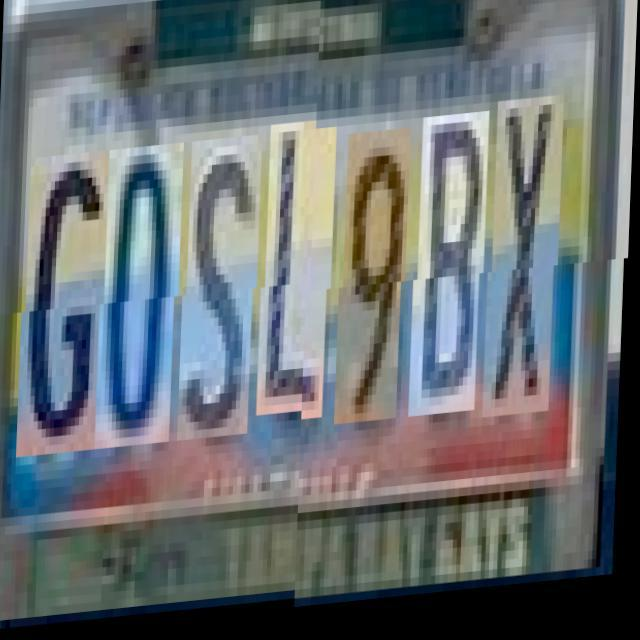9: (342, 136, 412, 432)
B: (416, 122, 491, 426)
G: (24, 162, 110, 466)
L: (264, 134, 338, 429)
O: (102, 155, 185, 460)
S: (184, 149, 264, 453)
X: (490, 107, 566, 428)
